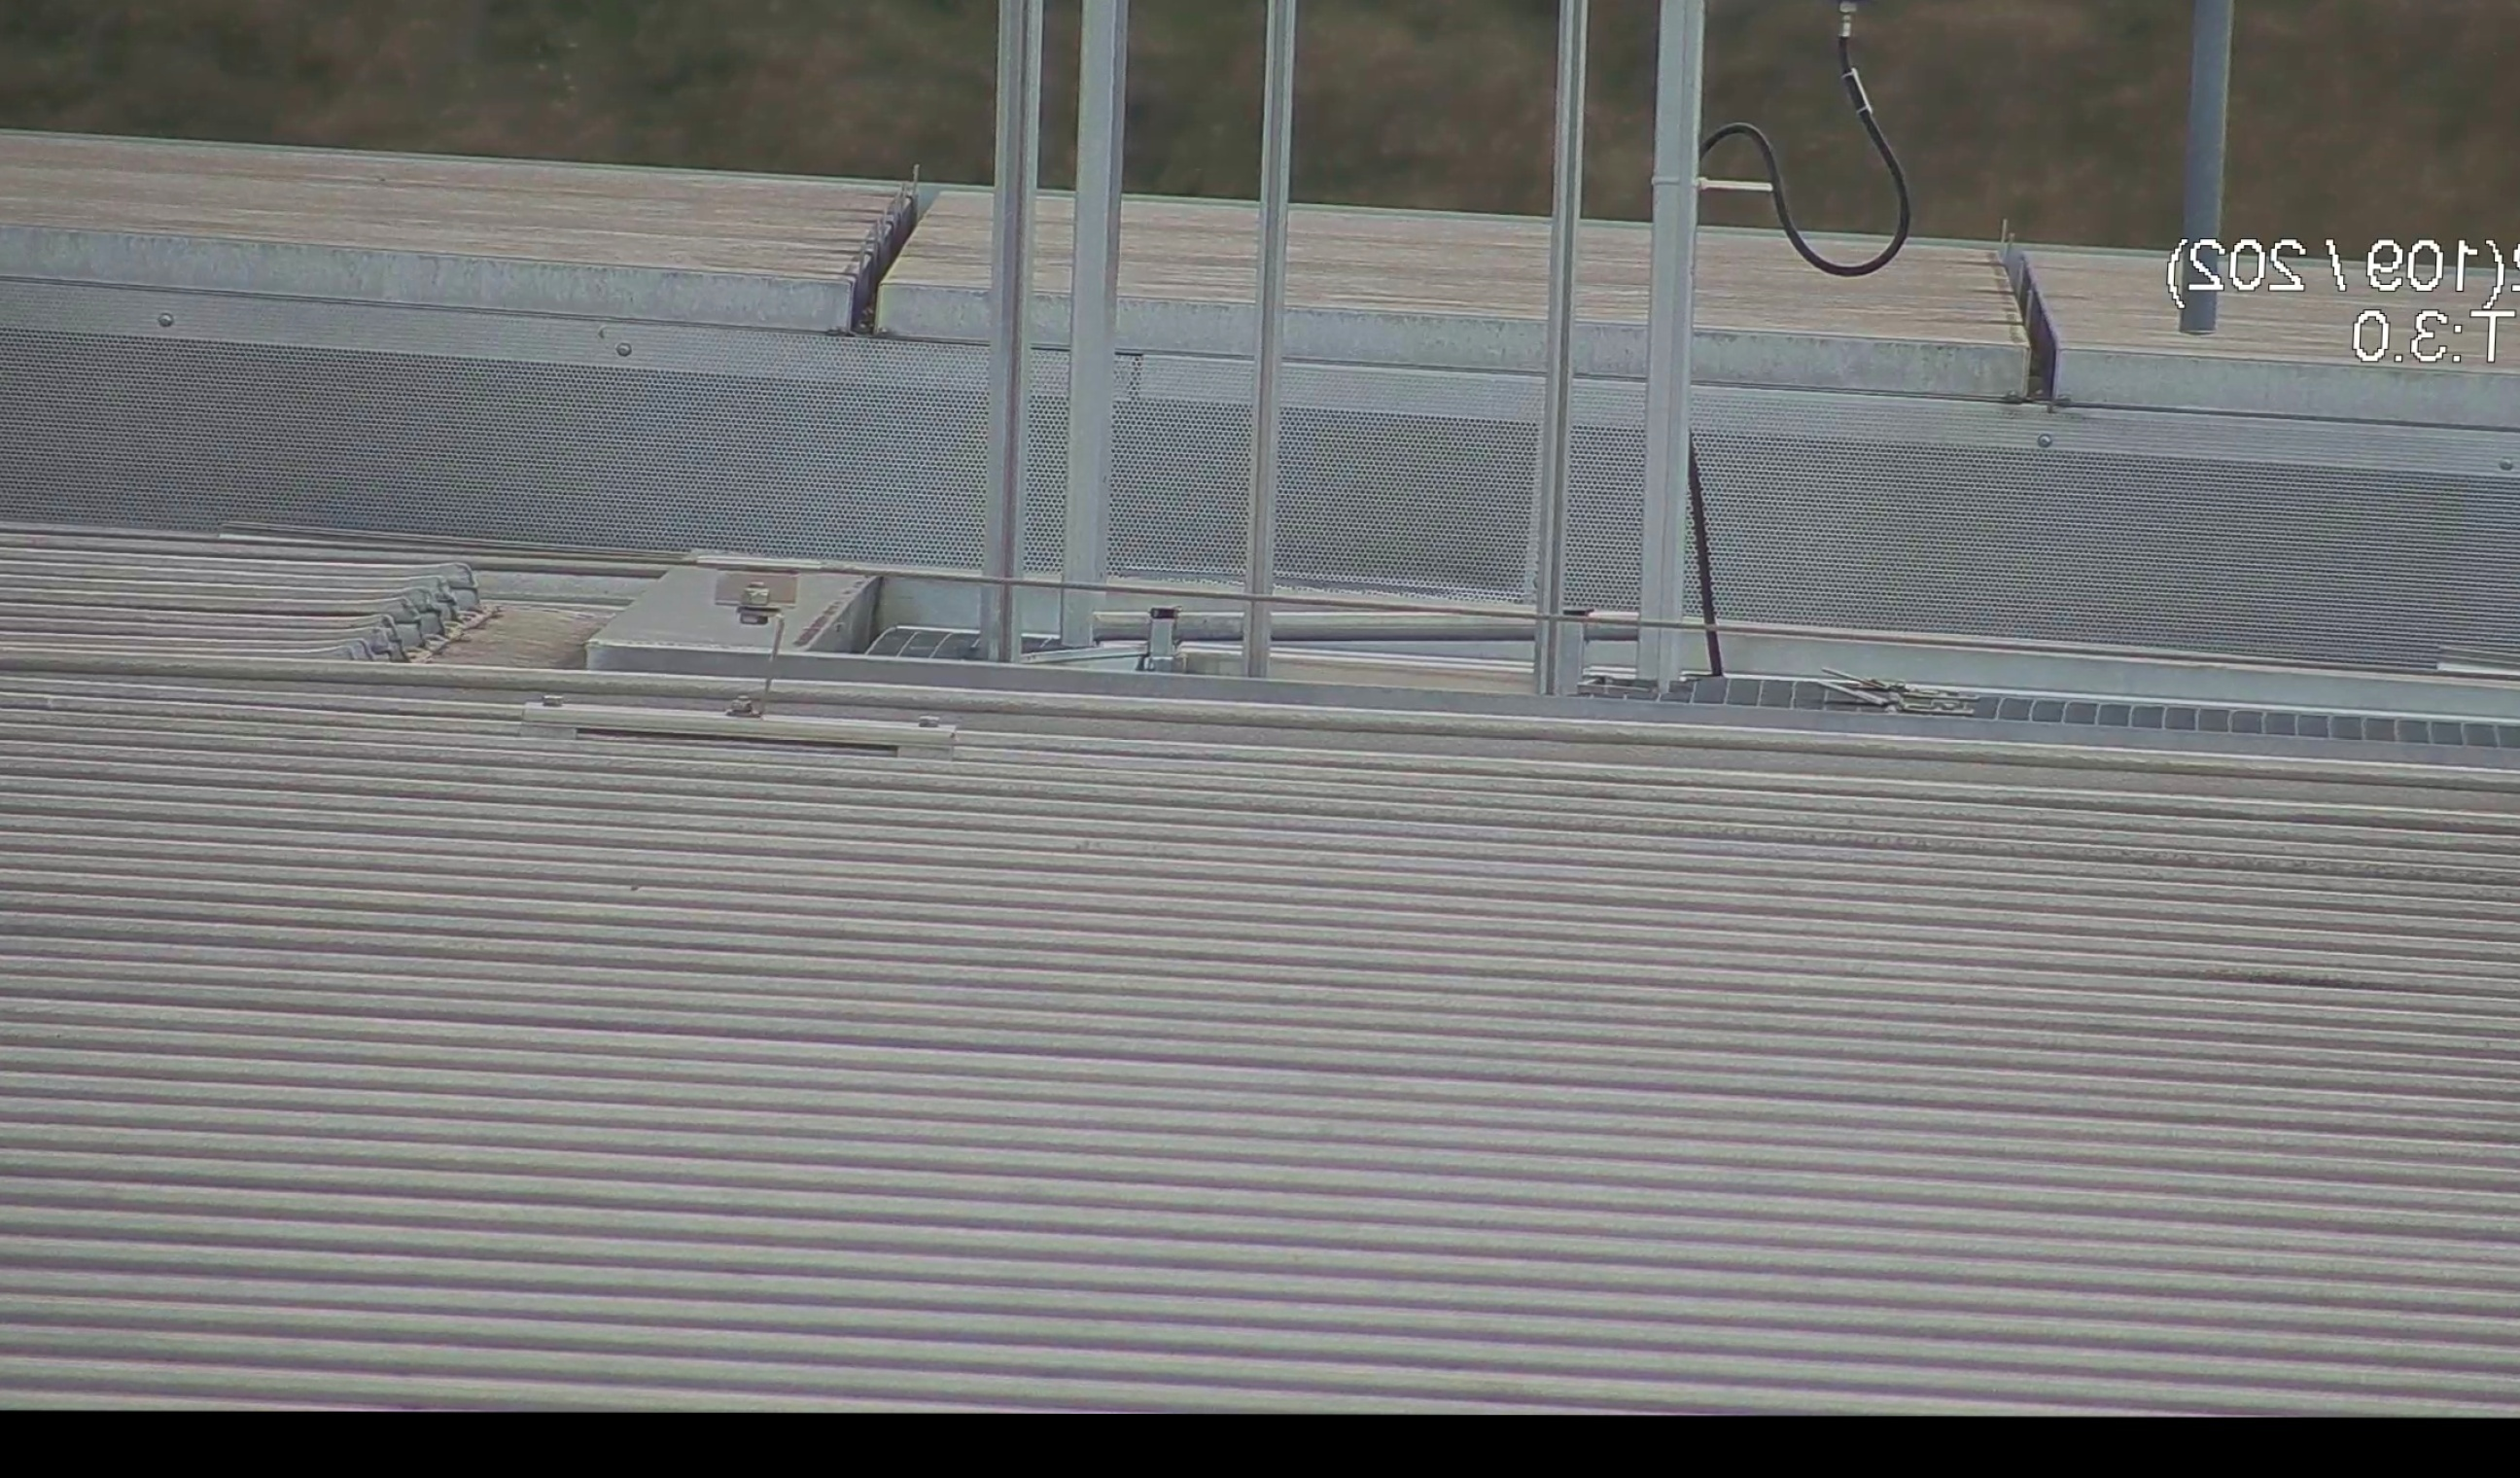Other: (818, 158, 944, 338)
